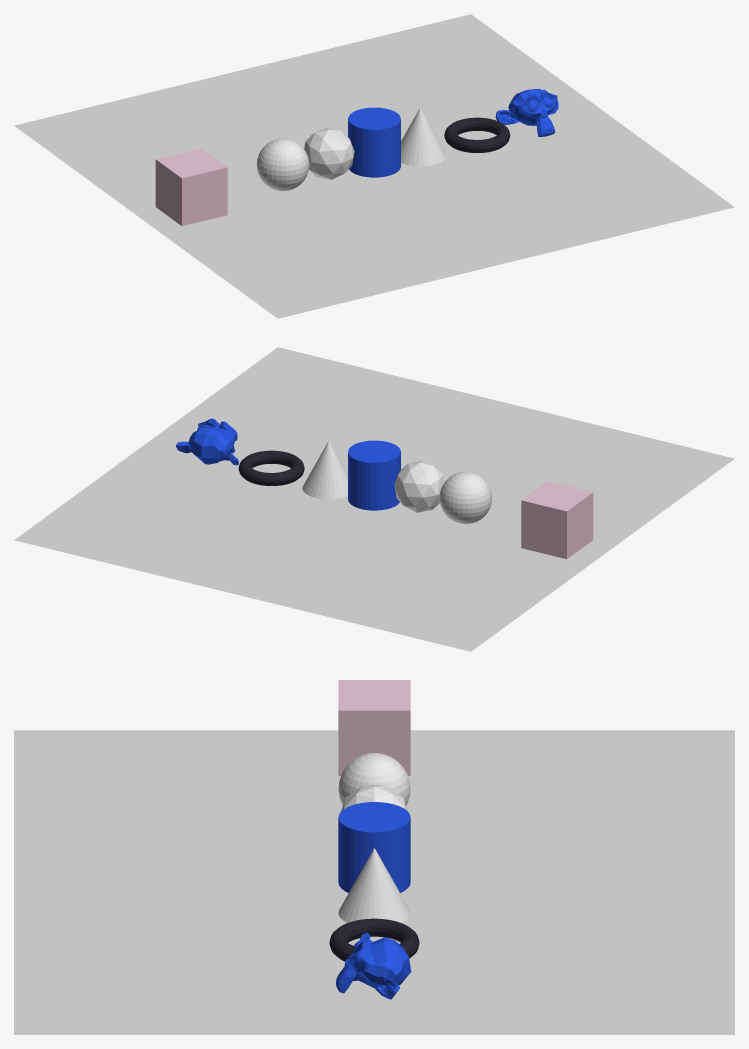
File: exercise 2.glb
3 renders of one model, top to bottom at view 1: azimuth 30°, elevation 25°; view 2: azimuth 150°, elevation 25°; view 3: azimuth 270°, elevation 25°, orthographic. The views are drawn at different scales.
Visible parts, largest first — view 1: Plane, Cube, Cylinder, Sphere, Icosphere, Suzanne, Cone, Torus; view 2: Plane, Cube, Cylinder, Sphere, Icosphere, Suzanne, Cone, Torus; view 3: Plane, Cube, Cylinder, Suzanne, Cone, Sphere, Torus, Icosphere.
Part boxes in pixels (left/top/right/bottom): Plane: left=14, top=14, right=734, bottom=318; Cube: left=155, top=148, right=227, bottom=226; Cylinder: left=348, top=107, right=400, bottom=177; Sphere: left=256, top=138, right=309, bottom=191; Icosphere: left=304, top=127, right=354, bottom=179; Suzanne: left=495, top=89, right=558, bottom=136; Cone: left=401, top=108, right=446, bottom=166; Torus: left=444, top=117, right=510, bottom=152; Plane: left=14, top=347, right=734, bottom=651; Cube: left=521, top=481, right=593, bottom=559; Cylinder: left=348, top=440, right=400, bottom=510; Sphere: left=439, top=471, right=492, bottom=524; Icosphere: left=394, top=460, right=444, bottom=512; Suzanne: left=175, top=418, right=238, bottom=465; Cone: left=302, top=441, right=347, bottom=499; Torus: left=238, top=450, right=304, bottom=485; Plane: left=14, top=730, right=734, bottom=1034; Cube: left=338, top=680, right=410, bottom=775; Cylinder: left=338, top=802, right=410, bottom=892; Suzanne: left=336, top=932, right=411, bottom=999; Cone: left=338, top=848, right=410, bottom=922; Sphere: left=338, top=753, right=410, bottom=805; Torus: left=329, top=918, right=419, bottom=961; Icosphere: left=341, top=785, right=407, bottom=810.
Size of the model in its own units: 20 by 2 by 20.
